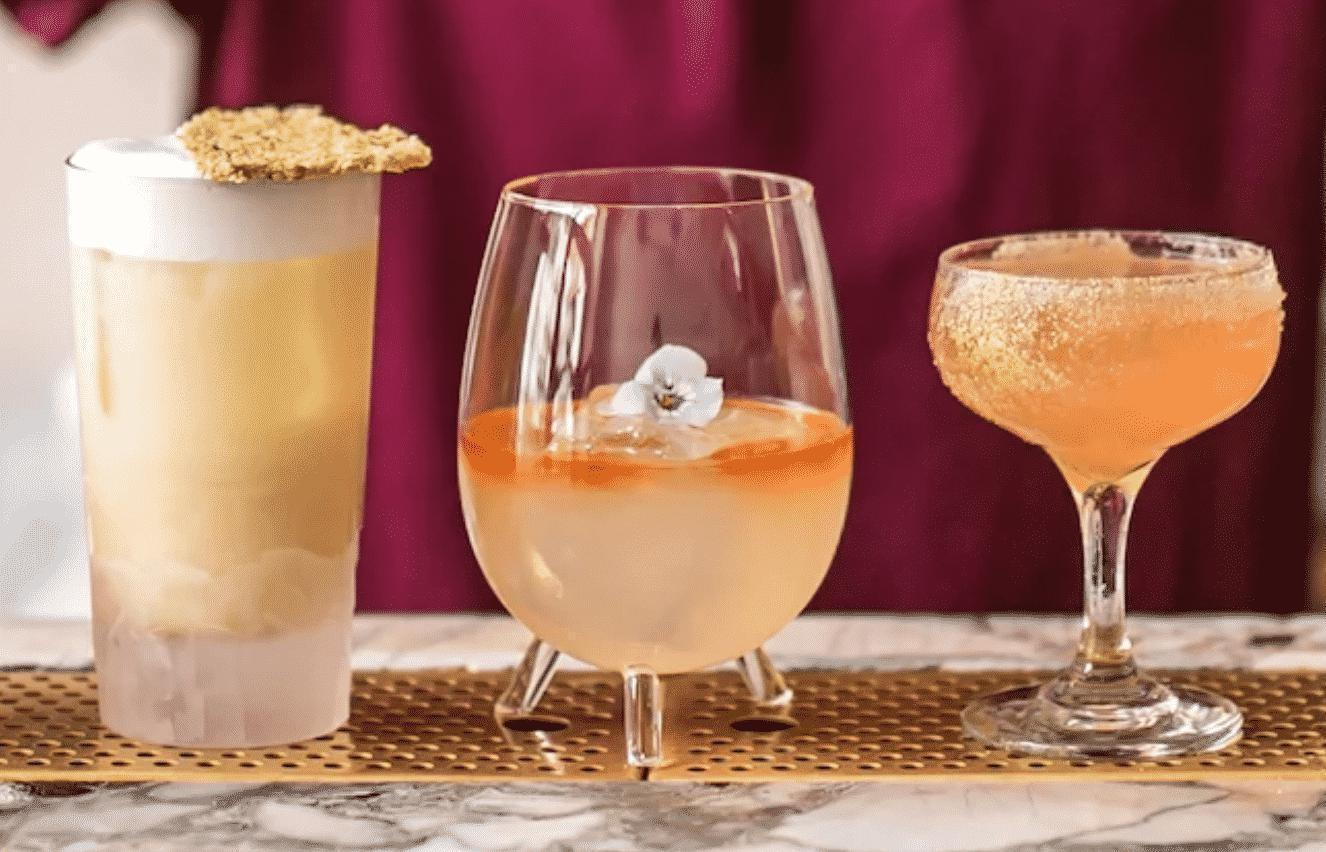glass-normal: (59, 112, 386, 750)
glass-wine: (453, 163, 858, 780), (924, 224, 1283, 760)
